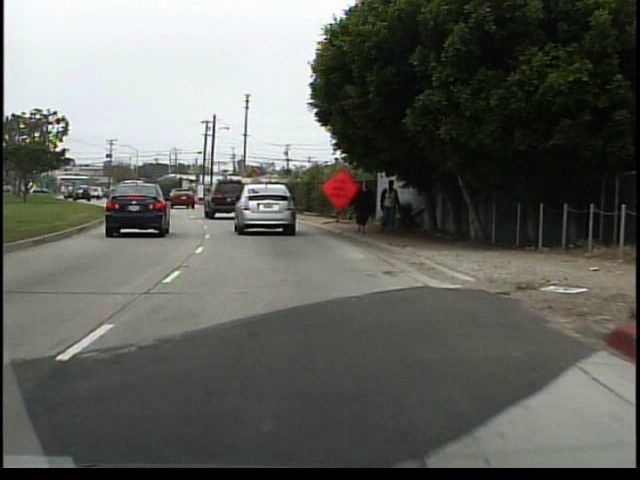person: (344, 175, 377, 240), (377, 179, 402, 239)
